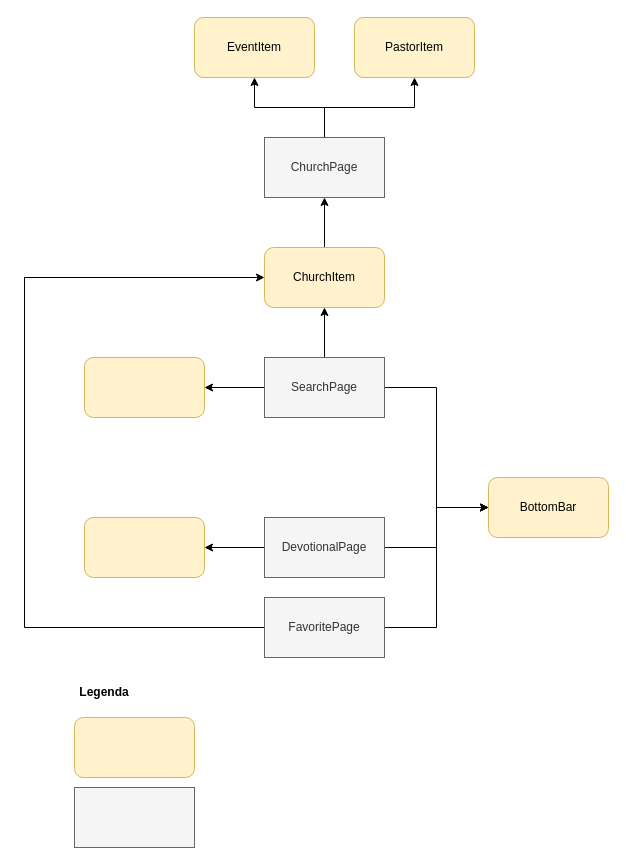
Some shapes in this 626 by 865 pixel diagram are drawn without their labels. Here are the shapes that lost their labels. From the top down, the box of each, then its label:
(84, 356, 204, 418): SearchBar
(84, 516, 204, 578): DevotionalItem
(74, 716, 194, 778): Components
(74, 786, 194, 848): Pages
